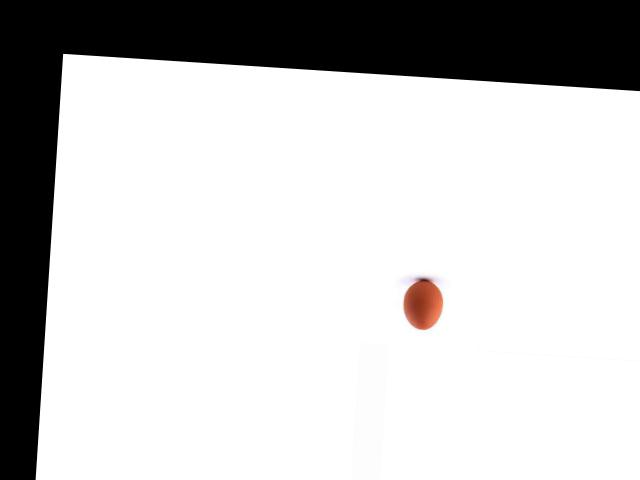egg: (400, 279, 443, 330)
